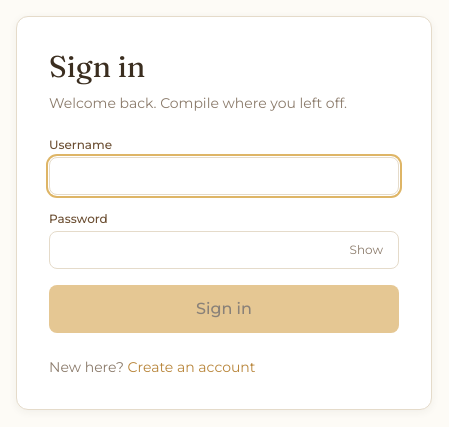
Test: LoginPage › keeps submit disabled until both fields are filled
This screenshot has width=449, height=427.
Expected: the button "Sign in" is disabled, [49,285,399,333]
In the field labelled "Username": (224, 176) [49,157,399,195], type "alice"
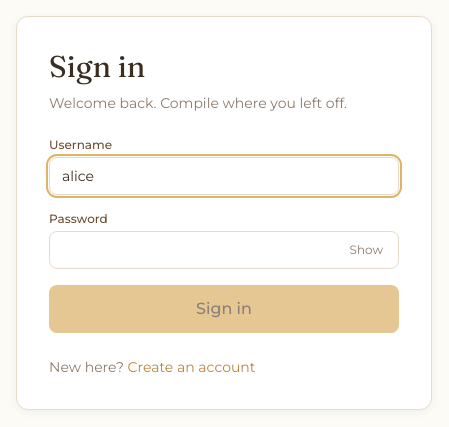
Expected: the button "Sign in" is disabled, [49,285,399,333]
In the password field labelled "Password": (224, 250) [49,231,399,269], type "secret1pass"
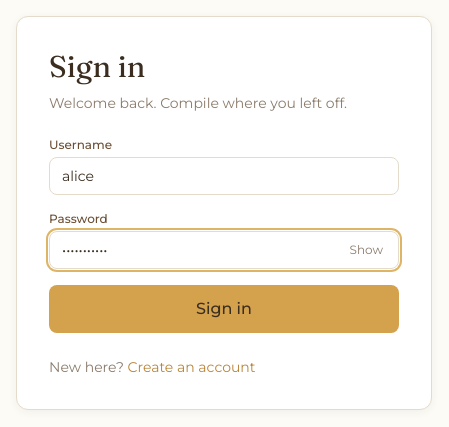
Result: the button "Sign in" is enabled at [49,285,399,333]
